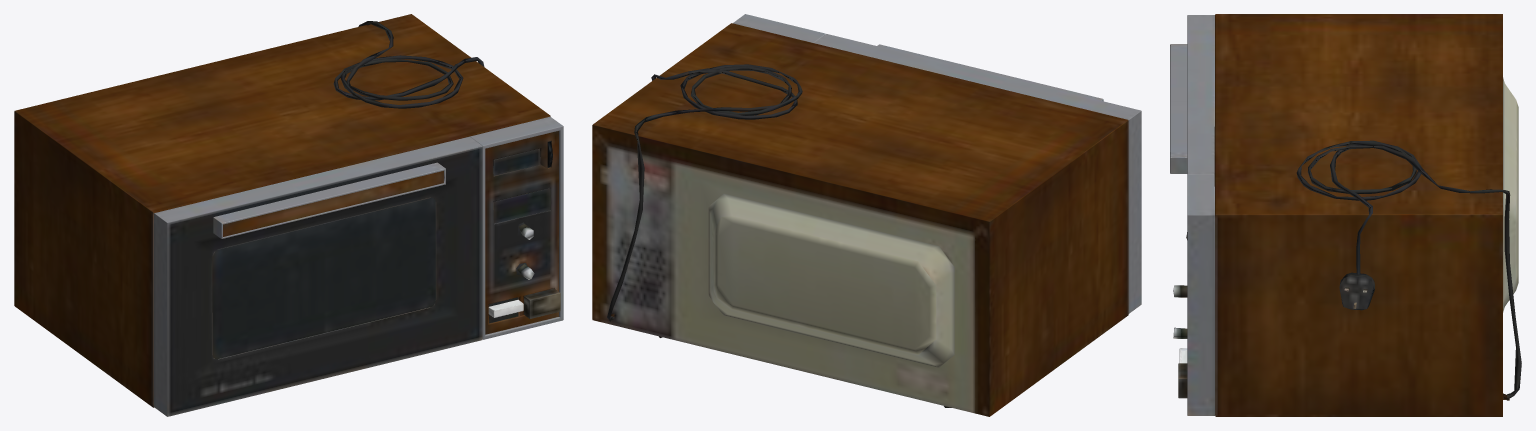
File: microwave_lod1.glb
3 views of the same model, side by side, from view 1: azimuth 30°, elevation 25°; view 2: azimuth 150°, elevation 25°; view 3: azimuth 270°, elevation 25° (orthographic). The views are drawn at different scales.
Bounding box in the file's own units: 1.07 × 0.5258 × 0.7451.
Materials: 2 (2 with a texture image).
